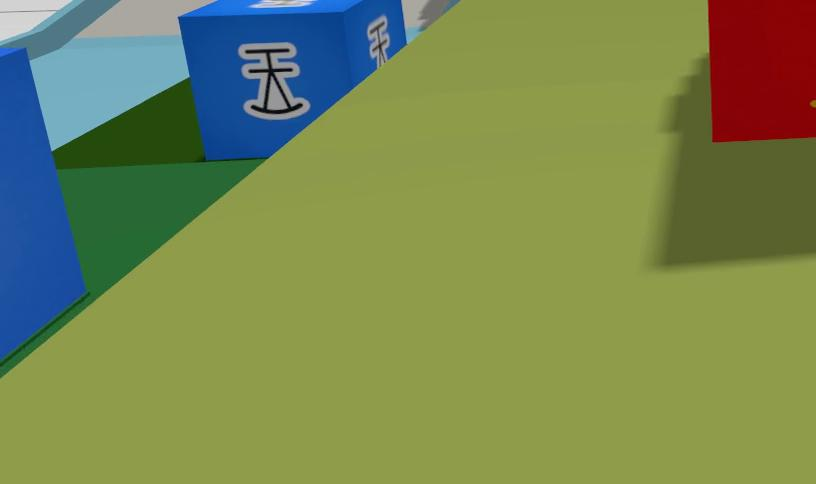KFS_FAKE: (708, 0, 816, 140)
KFS_REAL: (178, 0, 406, 160), (0, 48, 86, 355), (239, 43, 309, 119), (369, 16, 391, 65), (251, 0, 316, 8)
